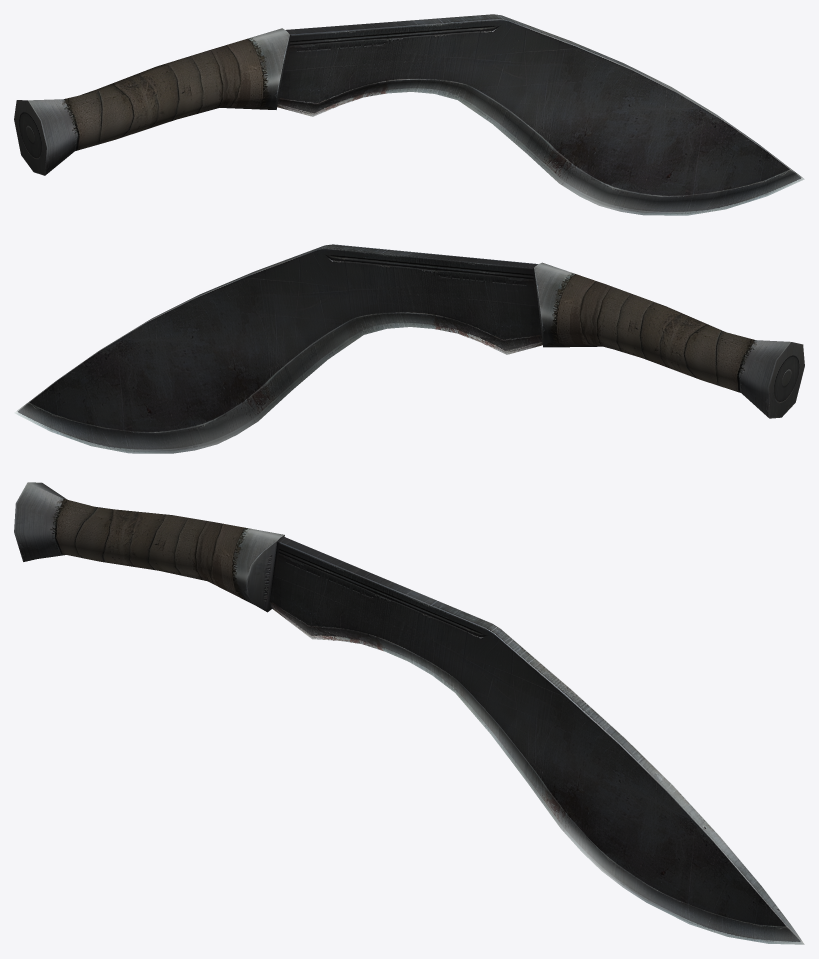
Rendered from AmokKukri.glb.
3 views of the same model, one above another, from view 1: azimuth 30°, elevation 25°; view 2: azimuth 150°, elevation 25°; view 3: azimuth 330°, elevation 25° (orthographic).
Parts seen in each view (by area): view 1: knifecur; view 2: knifecur; view 3: knifecur.
Part boxes in pixels (<box>): knifecur: <box>14,14,804,215</box>; knifecur: <box>14,244,804,453</box>; knifecur: <box>14,482,804,944</box>.
Bounding box in the file's own units: 4.59 × 1.63 × 0.3724.
Materials: 1 (1 with a texture image).
